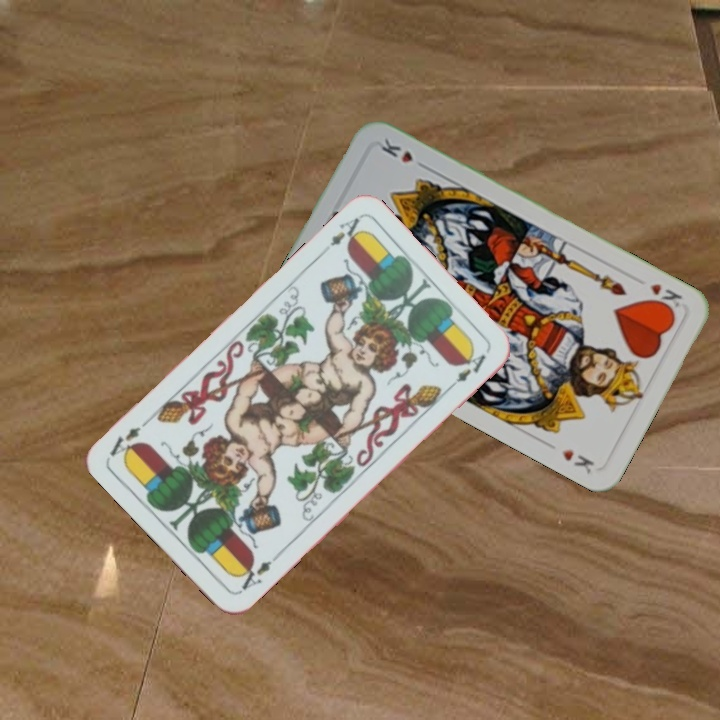EA: (233, 549, 283, 596), (316, 213, 367, 258)
HK: (646, 279, 685, 311)
